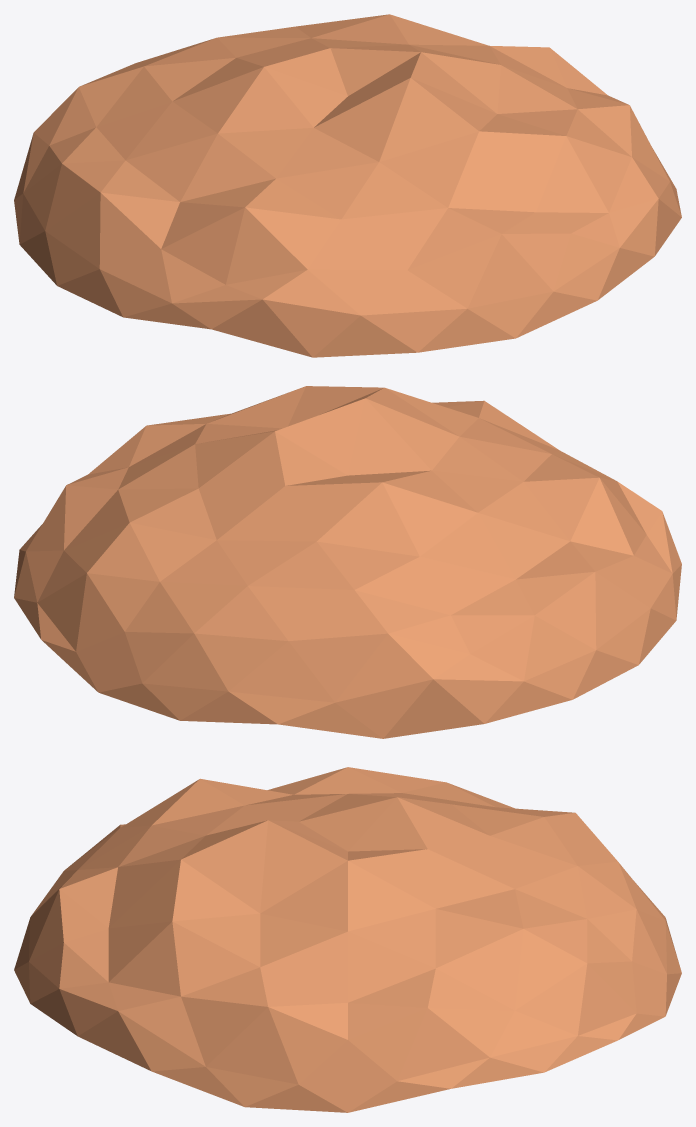
Rendered from füllung_teller.fbx.
3 renders of one model, top to bottom at view 1: azimuth 30°, elevation 25°; view 2: azimuth 150°, elevation 25°; view 3: azimuth 270°, elevation 25°, orthographic.
Parts seen in each view (by area): view 1: Icosphere; view 2: Icosphere; view 3: Icosphere.
Part boxes in pixels (<box>): Icosphere: <box>14,14,681,357</box>; Icosphere: <box>14,386,681,738</box>; Icosphere: <box>14,767,681,1112</box>.
Bounding box in the file's own units: 20.59 × 5.58 × 20.59.
